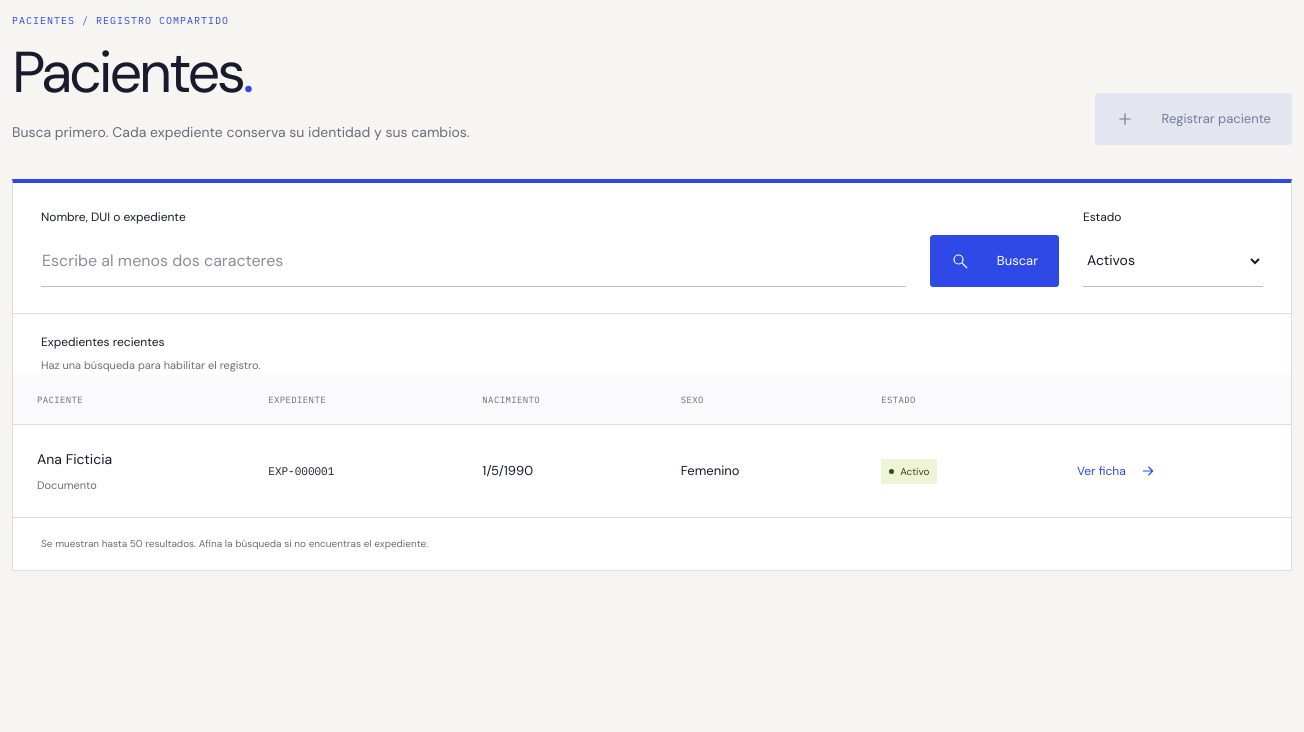
Test case: búsqueda antes de registrar › deshabilita "Registrar paciente" hasta tener una búsqueda vigente
The width and height of the screenshot is (1304, 732).
Expected: the button "Registrar paciente" is disabled, [1094,93,1292,145]
Type "Ana" into the field labelled "Nombre, DUI o expediente" at {"x": 473, "y": 261}, box [41,235,906,287]
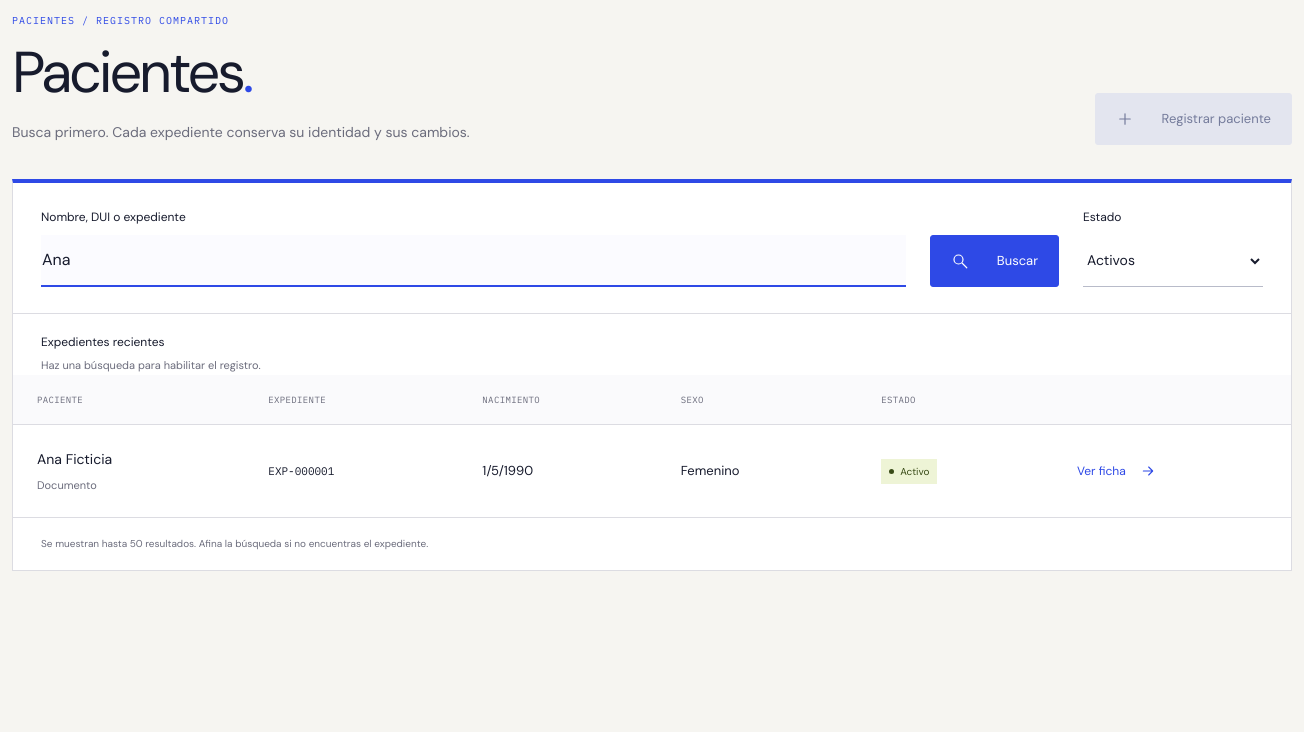
Click the button "Buscar" at {"x": 994, "y": 261}, box [930,235,1059,287]
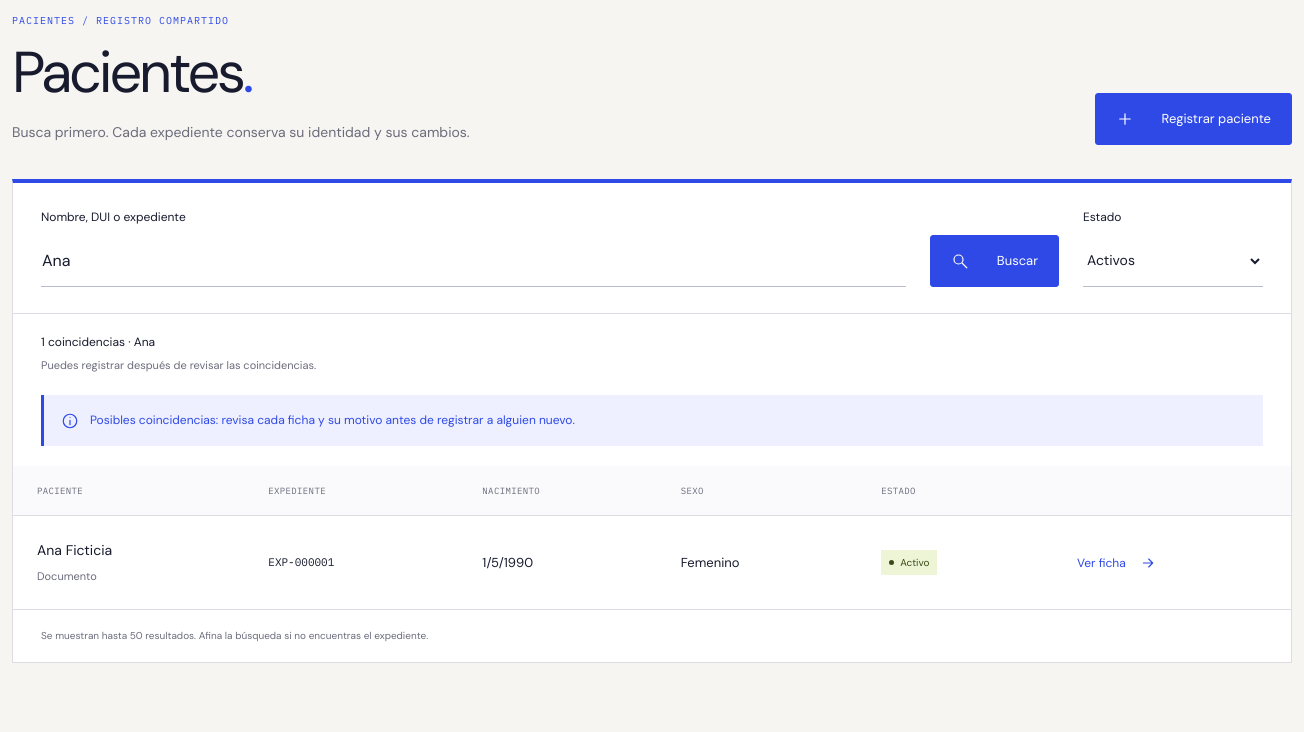
Expected: the text "Puedes registrar después de revisar las coincidencias." is shown, [41,358,316,372]
Expected: the button "Registrar paciente" is enabled, [1094,93,1292,145]
